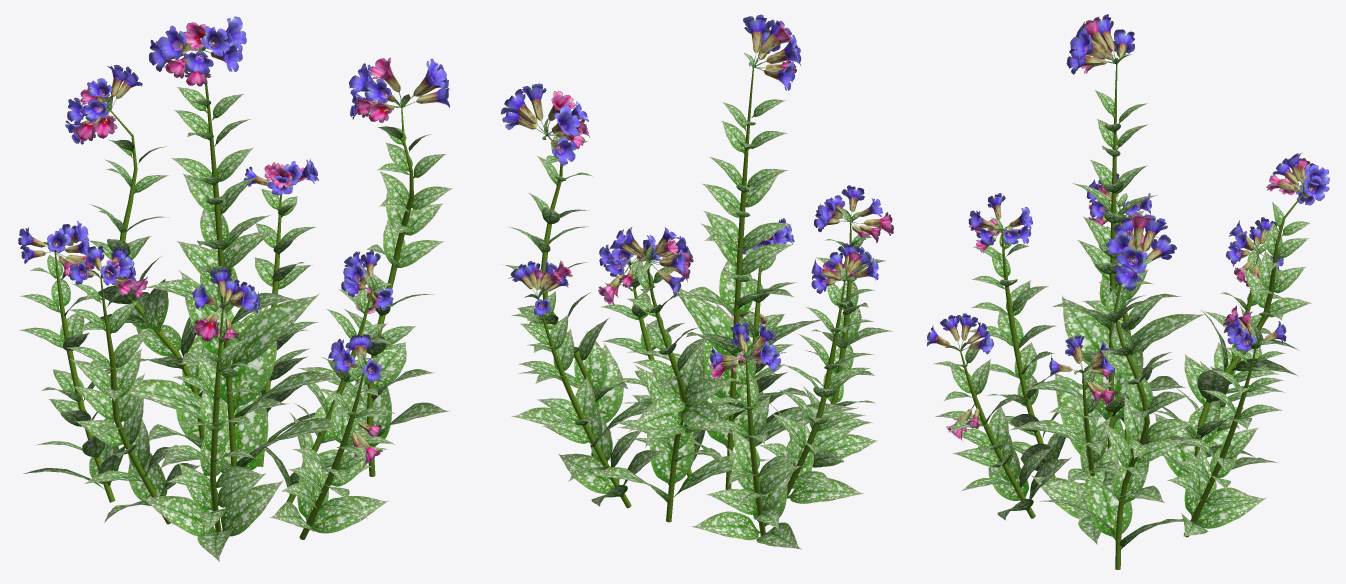
The picture shows the model from 3 angles, left to right: view 1: azimuth 30°, elevation 25°; view 2: azimuth 150°, elevation 25°; view 3: azimuth 270°, elevation 25°; orthographic projection. The views are drawn at different scales.
Visible parts, largest first — view 1: Leaf_2_spring_3, Flower_Blue_spring_1, Bark_spring_0, Flower_Pink_spring_2; view 2: Leaf_2_spring_3, Flower_Blue_spring_1, Bark_spring_0, Flower_Pink_spring_2; view 3: Leaf_2_spring_3, Flower_Blue_spring_1, Bark_spring_0, Flower_Pink_spring_2.
Part boxes in pixels (x1,y1,x2,y2): Leaf_2_spring_3: [19, 47, 452, 561]; Flower_Blue_spring_1: [18, 16, 449, 382]; Bark_spring_0: [54, 77, 413, 539]; Flower_Pink_spring_2: [55, 22, 401, 467]; Leaf_2_spring_3: [502, 52, 892, 549]; Flower_Blue_spring_1: [501, 14, 882, 371]; Bark_spring_0: [537, 67, 851, 535]; Flower_Pink_spring_2: [531, 21, 893, 379]; Leaf_2_spring_3: [933, 54, 1312, 550]; Flower_Blue_spring_1: [927, 14, 1329, 376]; Bark_spring_0: [960, 64, 1303, 569]; Flower_Pink_spring_2: [946, 17, 1309, 440].
Bounding box in the file's own units: 0.6882 × 0.8568 × 0.671.
4 materials, 4 textured.
